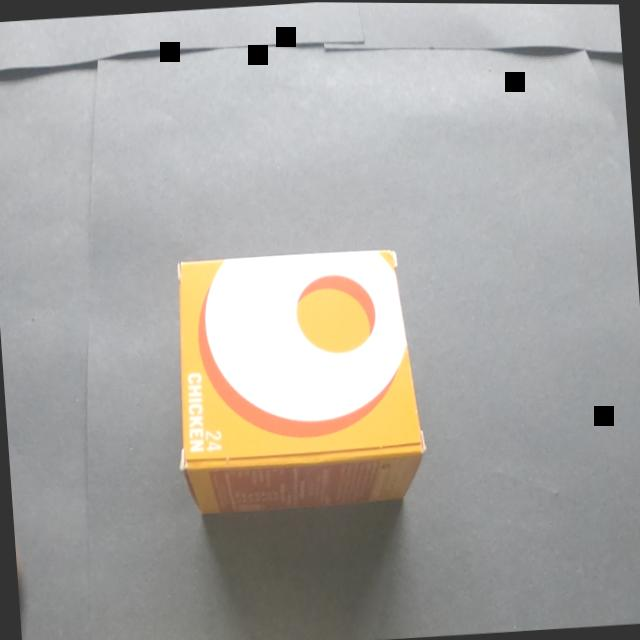Chickenstock: (136, 212, 454, 551)
